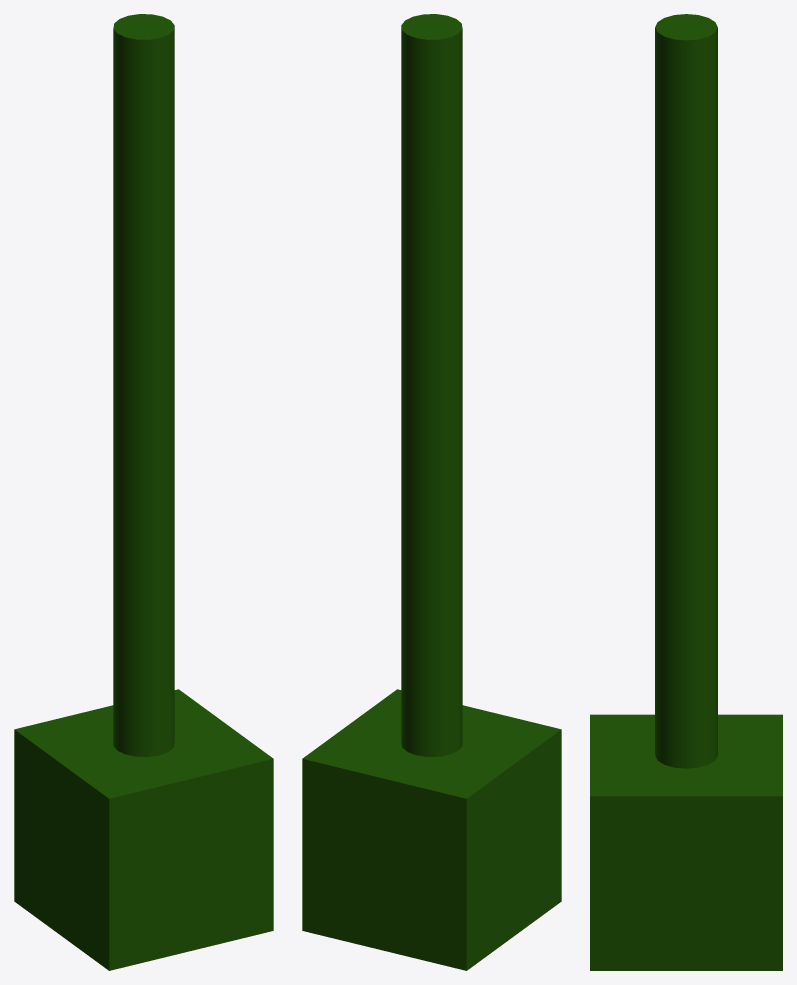
The model's file is GizmoScaleY.obj.
The picture shows the model from 3 angles, left to right: view 1: azimuth 30°, elevation 25°; view 2: azimuth 150°, elevation 25°; view 3: azimuth 270°, elevation 25°; orthographic projection.
Visible parts, largest first — view 1: ScaleY; view 2: ScaleY; view 3: ScaleY.
Boxes of the visible parts, left/top/right/bottom form: ScaleY: left=14, top=14, right=273, bottom=970; ScaleY: left=302, top=14, right=561, bottom=970; ScaleY: left=590, top=14, right=782, bottom=970.
Size of the model in its own units: 0.24 by 1.24 by 0.24.
